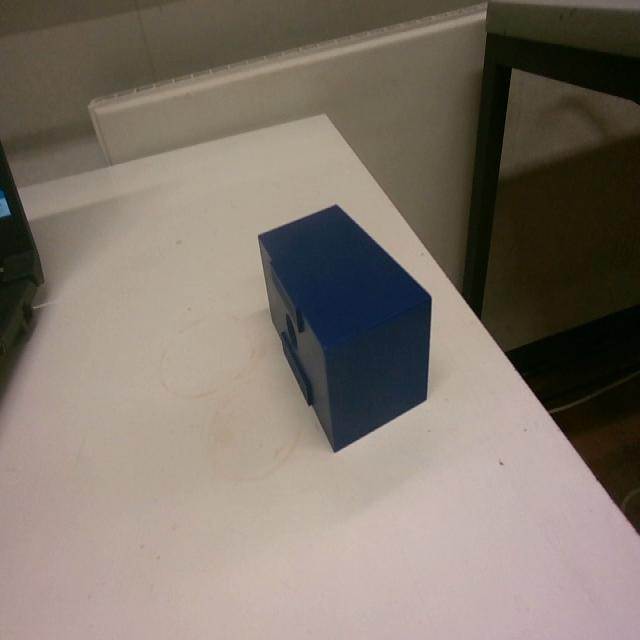Blue Cuboid: (255, 200, 433, 452)
